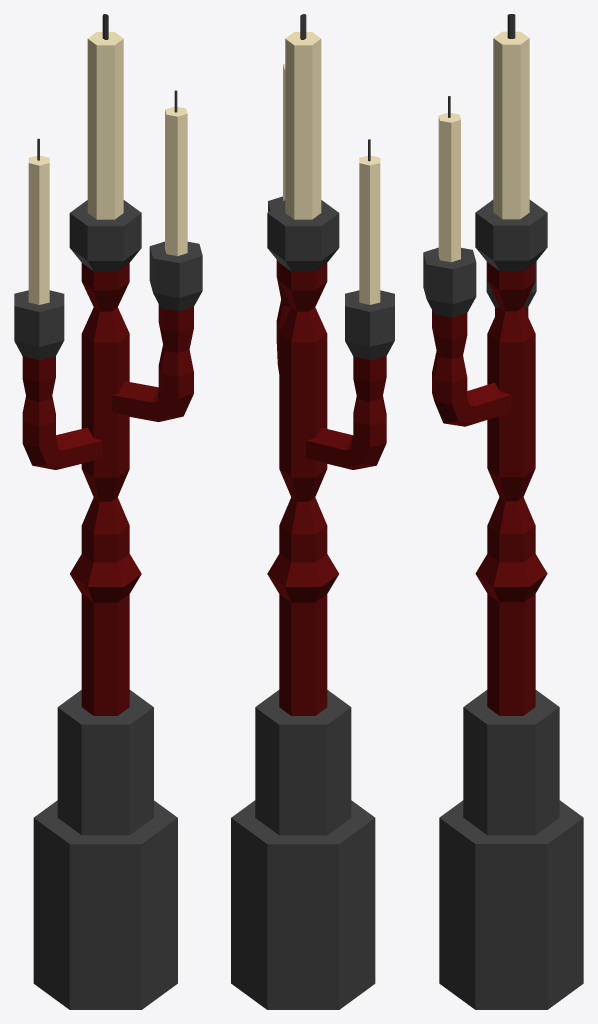
File: Candle_0.fbx
3 views of the same model, side by side, from view 1: azimuth 30°, elevation 25°; view 2: azimuth 150°, elevation 25°; view 3: azimuth 270°, elevation 25° (orthographic).
Visible parts, largest first — view 1: Candle_0; view 2: Candle_0; view 3: Candle_0.
Part boxes in pixels (x1,y1,x2,y2): Candle_0: (14,14,202,1009); Candle_0: (231,14,394,1009); Candle_0: (423,14,583,1009).
Bounding box in the file's own units: 93.69 × 555 × 83.33.
Materials: 1 (1 with a texture image).
